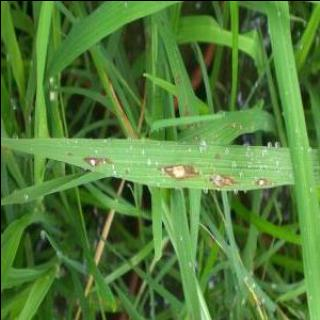Blast: (161, 164, 196, 177), (213, 175, 233, 182), (84, 158, 107, 164)
